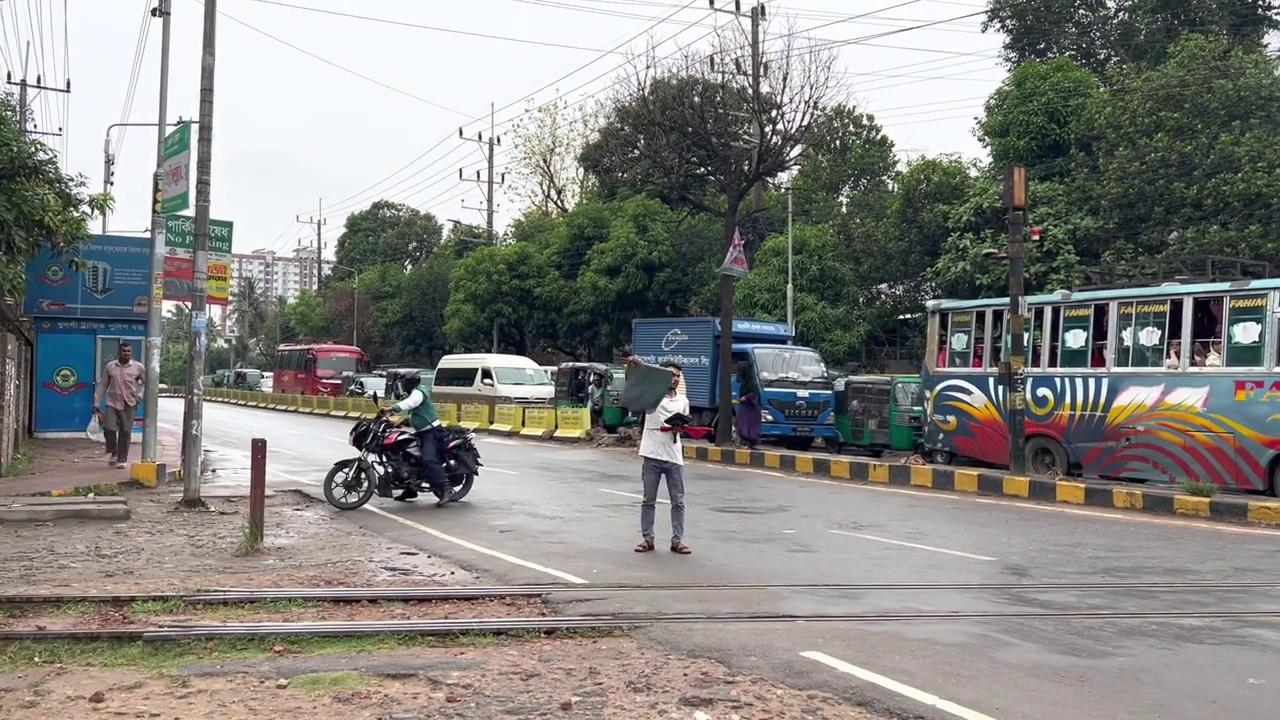Car: (678, 438, 1278, 531)
Curb: (322, 395, 482, 511)
Fence: (624, 356, 692, 554), (378, 369, 454, 506), (92, 341, 145, 468), (733, 361, 762, 449), (587, 374, 605, 427)
Garbage: (179, 0, 217, 504), (138, 0, 171, 464), (1002, 163, 1029, 476), (784, 188, 795, 336)
Motorcycle: (2, 577, 1277, 718), (1, 578, 1278, 642)
Rickshaw: (627, 315, 841, 452), (554, 361, 635, 432), (271, 340, 371, 397)
